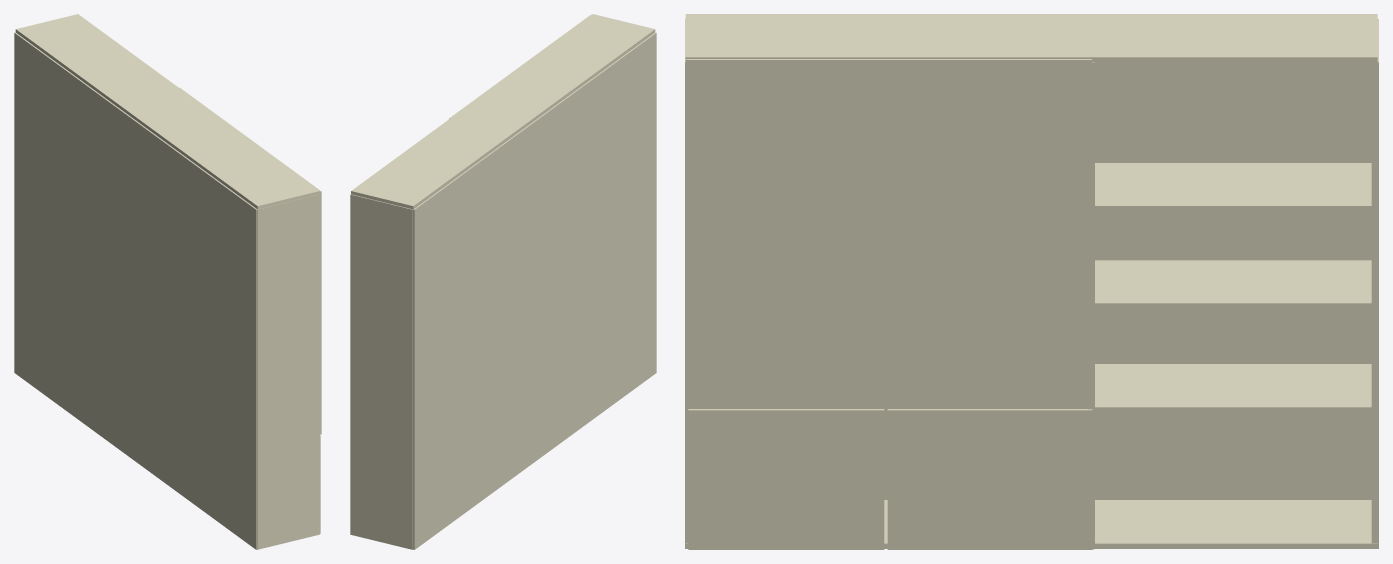
File: 通道櫃.fbx
3 renders of one model, left to right at view 1: azimuth 30°, elevation 25°; view 2: azimuth 150°, elevation 25°; view 3: azimuth 270°, elevation 25°, orthographic. The views are drawn at different scales.
Visible parts, largest first — view 1: 通道櫃子; view 2: 通道櫃子; view 3: 通道櫃子.
Part boxes in pixels (x1,y1,x2,y2): 通道櫃子: [14, 14, 321, 549]; 通道櫃子: [350, 14, 656, 549]; 通道櫃子: [685, 14, 1378, 549].
Size of the model in its own units: 50.72 by 254 by 325.
